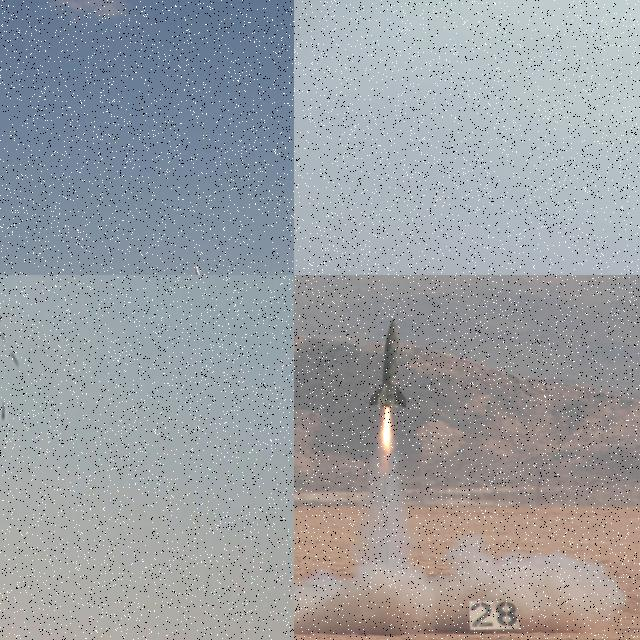Rocket: (368, 317, 408, 410), (194, 265, 214, 275), (1, 400, 6, 420)
